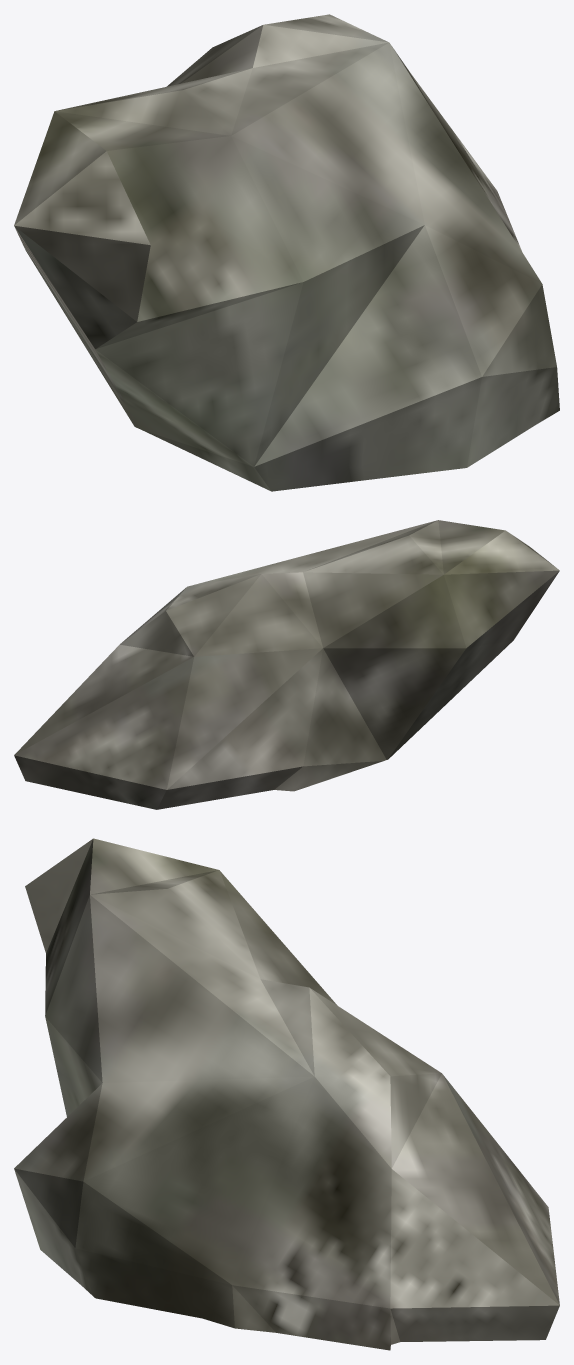
3 views of the same model, one above another, from view 1: azimuth 30°, elevation 25°; view 2: azimuth 150°, elevation 25°; view 3: azimuth 270°, elevation 25° (orthographic). The views are drawn at different scales.
Bounding box in the file's own units: 0.6291 × 0.3248 × 0.5581.
Materials: 1 (1 with a texture image).
